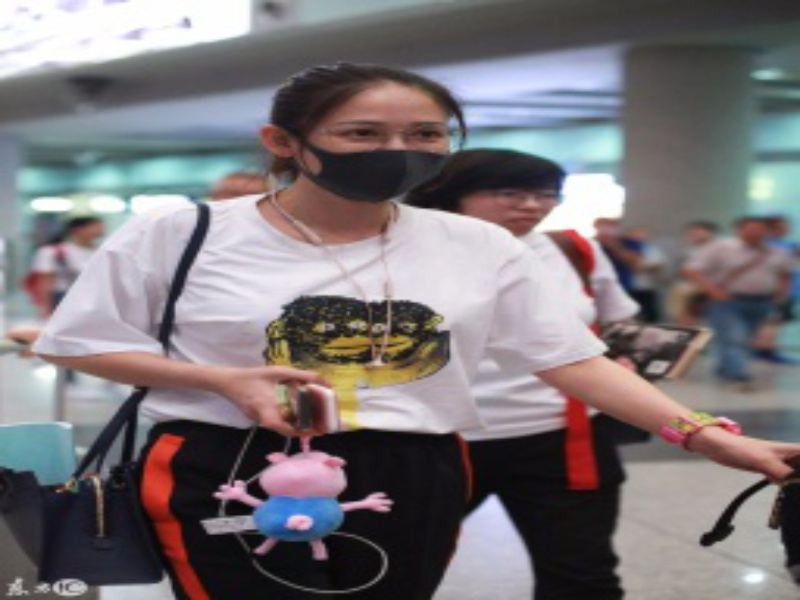ManaoArotava: (257, 54, 476, 217)
TsisyArotava: (438, 113, 574, 258)
